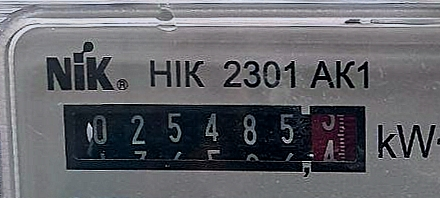0: (89, 111, 111, 146)
2: (128, 112, 149, 147)
4: (201, 109, 223, 144), (320, 137, 339, 165)
5: (276, 110, 298, 147), (164, 109, 185, 144)
8: (240, 110, 261, 148)
screen: (54, 95, 376, 184)
